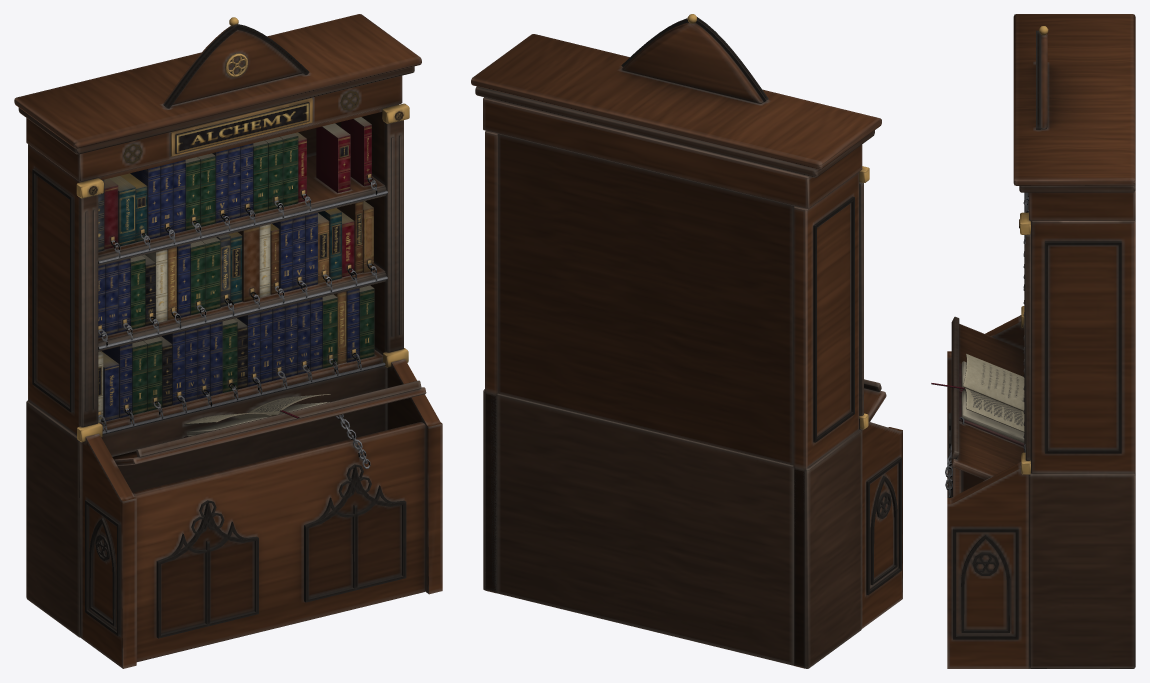
File: ChainedBookcase.fbx
The picture shows the model from 3 angles, left to right: view 1: azimuth 30°, elevation 25°; view 2: azimuth 150°, elevation 25°; view 3: azimuth 270°, elevation 25°; orthographic projection. The views are drawn at different scales.
Visible parts, largest first — view 1: ChainedBookcase; view 2: ChainedBookcase; view 3: ChainedBookcase.
Part boxes in pixels (bbox=[...]): ChainedBookcase: bbox=[14, 14, 442, 668]; ChainedBookcase: bbox=[471, 14, 902, 668]; ChainedBookcase: bbox=[931, 14, 1135, 668].
Bounding box in the file's own units: 566 × 897 × 293.
